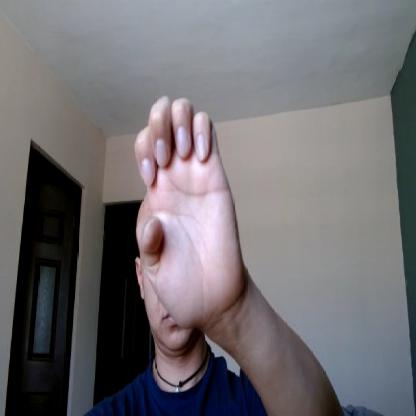E: (135, 94, 240, 332)
